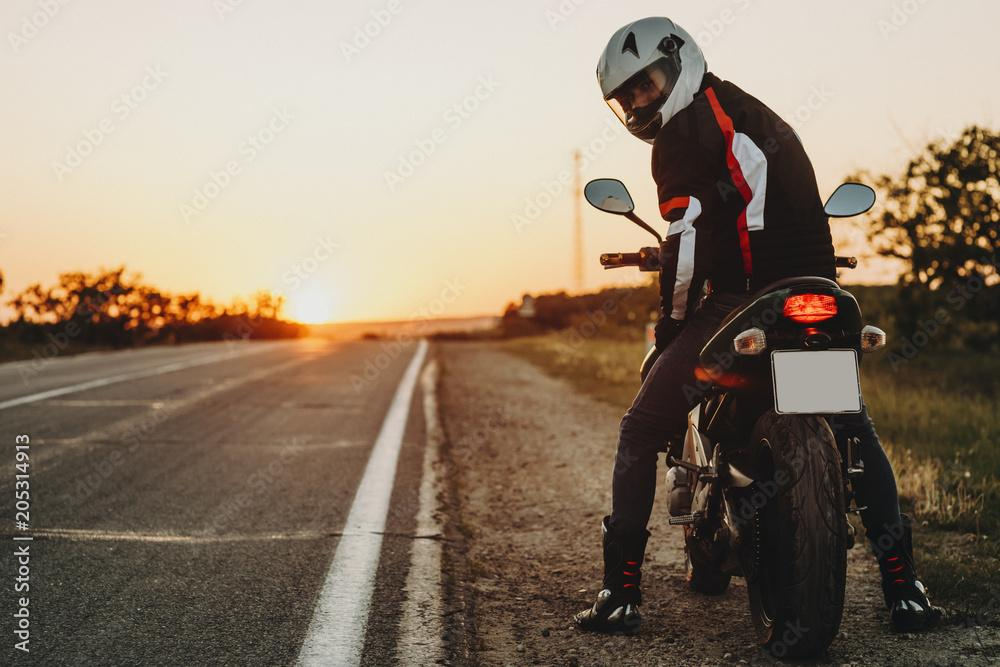helmet: (595, 15, 709, 150)
